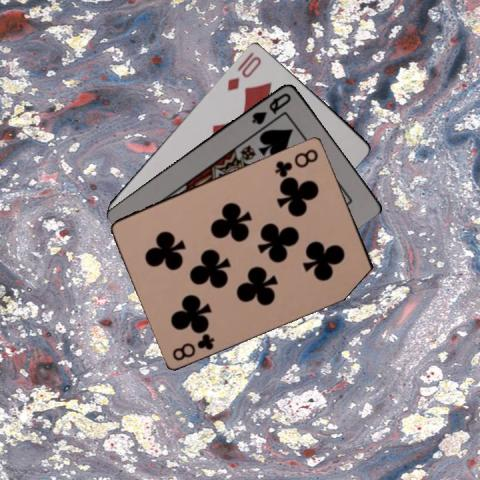10d: (224, 53, 263, 92)
8c: (272, 146, 320, 178), (169, 330, 216, 362)
Qs: (249, 89, 292, 126)
